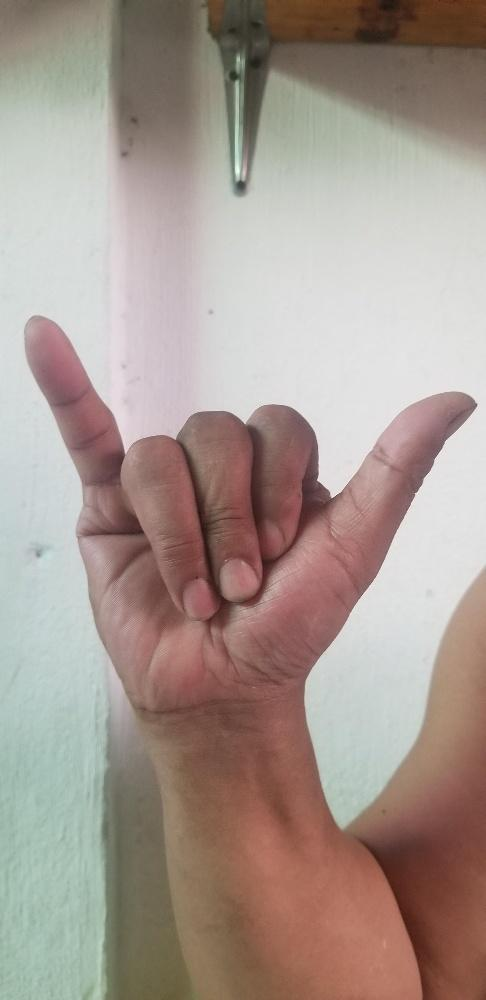y: (20, 309, 481, 700)
